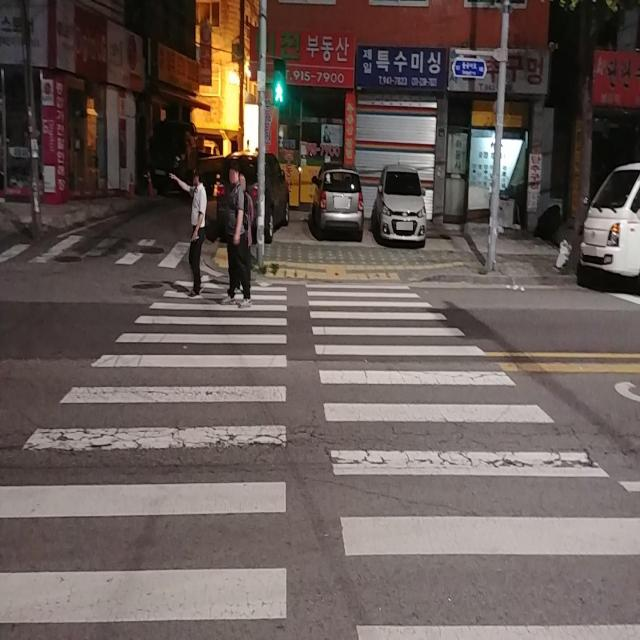초록불: (273, 59, 287, 108)
횡단보도: (0, 274, 640, 640), (0, 219, 198, 274)
